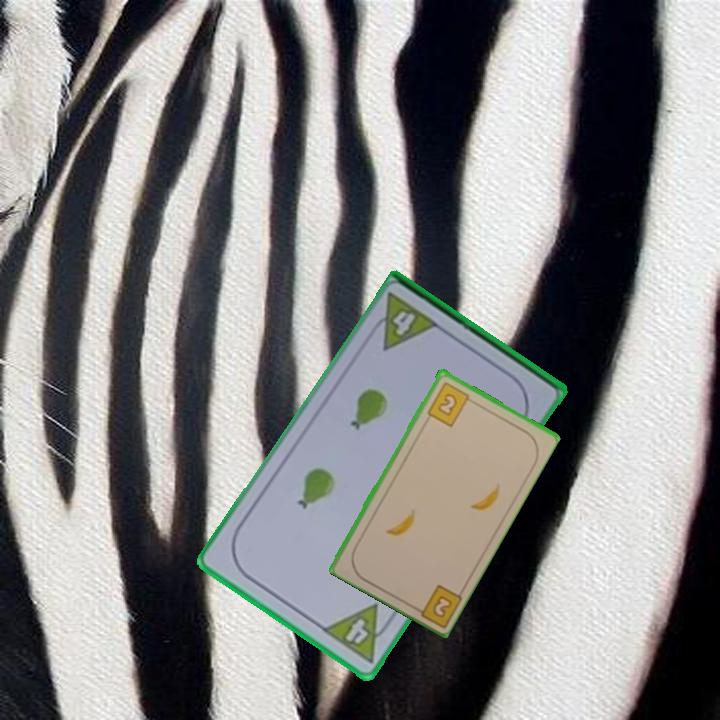2b: (423, 378, 477, 429), (408, 580, 464, 628)
4p: (319, 600, 398, 666), (364, 290, 443, 353)
